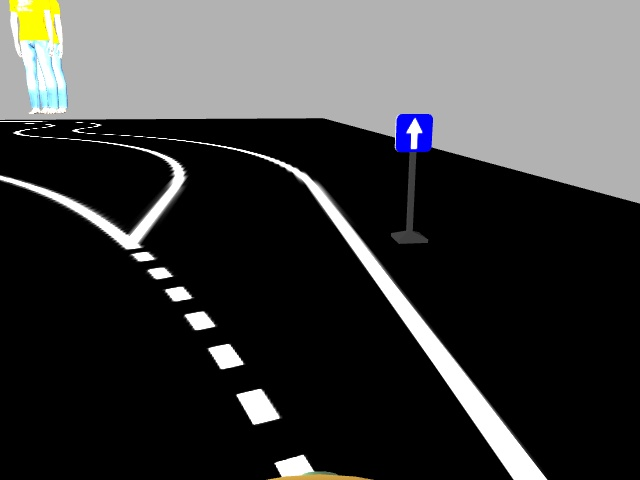OneWay: (393, 111, 431, 151)
